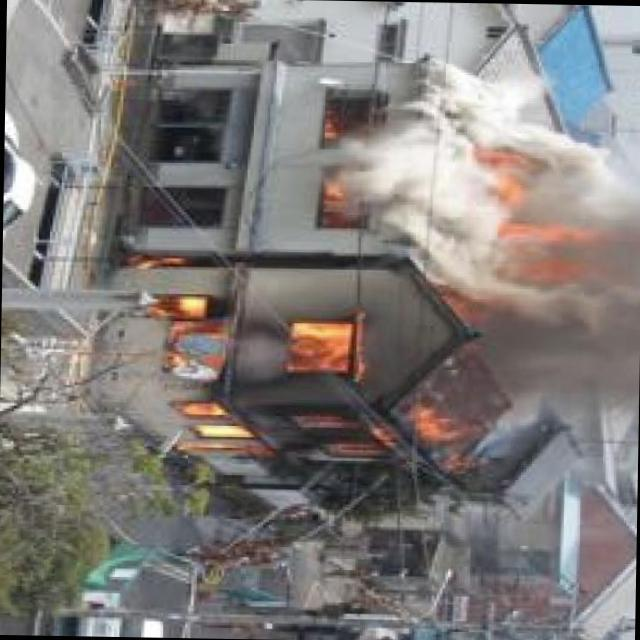Fire: (132, 292, 483, 475), (489, 153, 567, 294), (317, 172, 340, 226)
